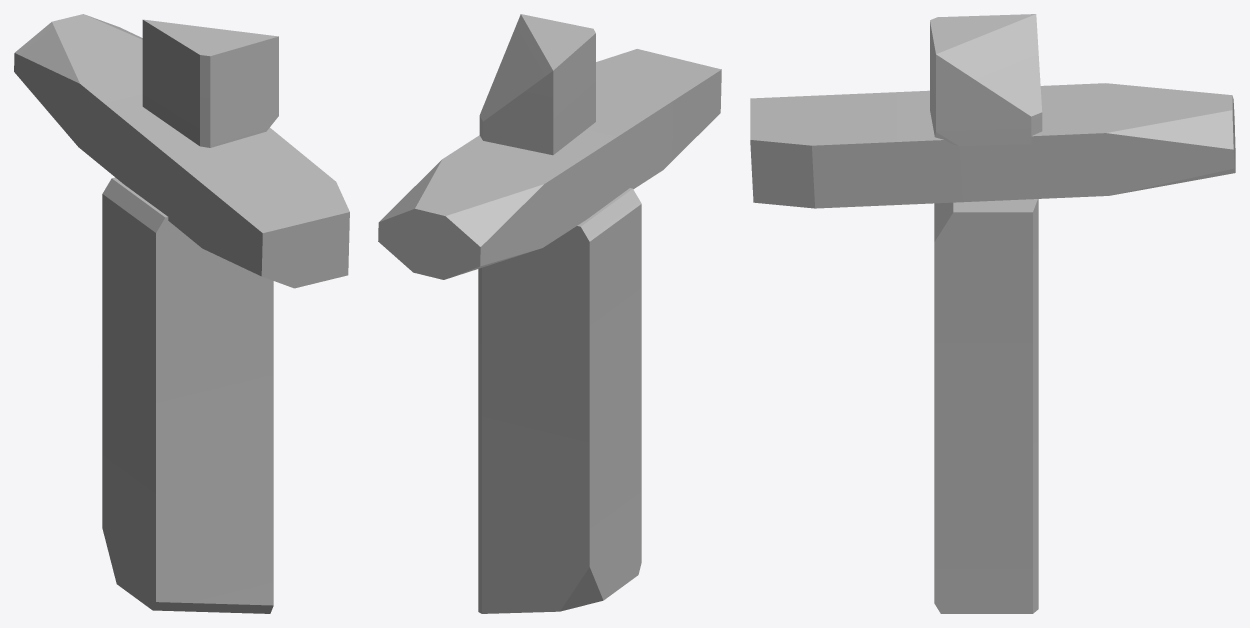
The model's file is zvitSummitCrossblend.fbx.
3 views of the same model, side by side, from view 1: azimuth 30°, elevation 25°; view 2: azimuth 150°, elevation 25°; view 3: azimuth 270°, elevation 25° (orthographic). The views are drawn at different scales.
Visible parts, largest first — view 1: Square_Rock_16; view 2: Square_Rock_16; view 3: Square_Rock_16.
Part boxes in pixels (<box>): Square_Rock_16: <box>14,14,349,613</box>; Square_Rock_16: <box>378,14,721,613</box>; Square_Rock_16: <box>750,14,1235,613</box>.
Bounding box in the file's own units: 195 × 871 × 681.
